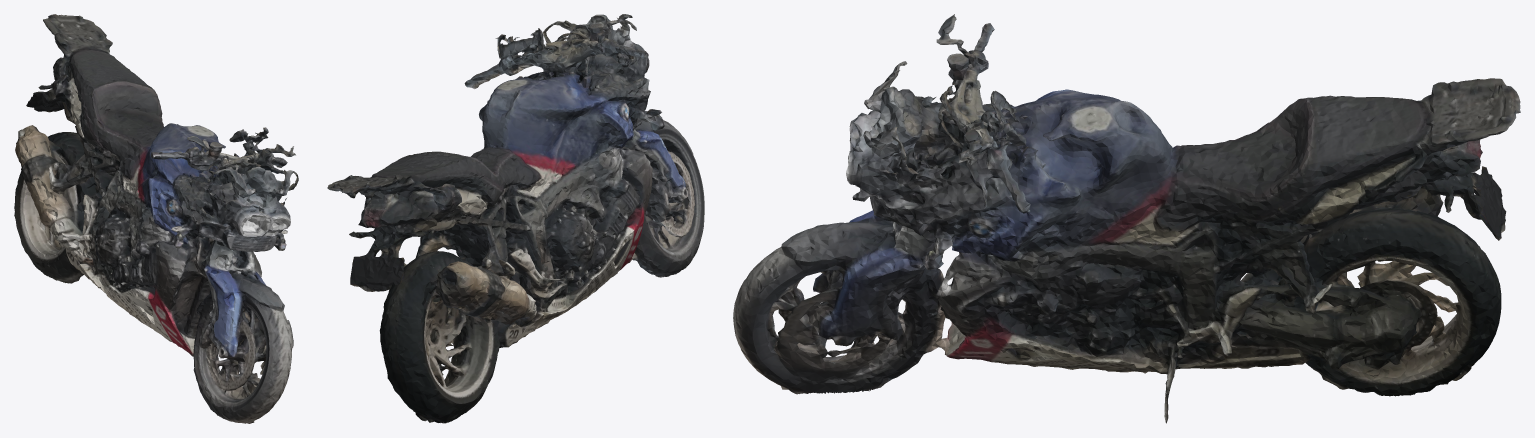
3 views of the same model, side by side, from view 1: azimuth 30°, elevation 25°; view 2: azimuth 150°, elevation 25°; view 3: azimuth 270°, elevation 25° (orthographic). The views are drawn at different scales.
Parts seen in each view (by area): view 1: k1300r-ar.obj; view 2: k1300r-ar.obj; view 3: k1300r-ar.obj.
Part boxes in pixels (x1=…): k1300r-ar.obj: x1=14, y1=14, x2=298, y2=423; k1300r-ar.obj: x1=327, y1=14, x2=704, y2=423; k1300r-ar.obj: x1=733, y1=14, x2=1520, y2=423.
Bounding box in the file's own units: 0.7672 × 1.16 × 2.23.
1 material, 1 textured.
